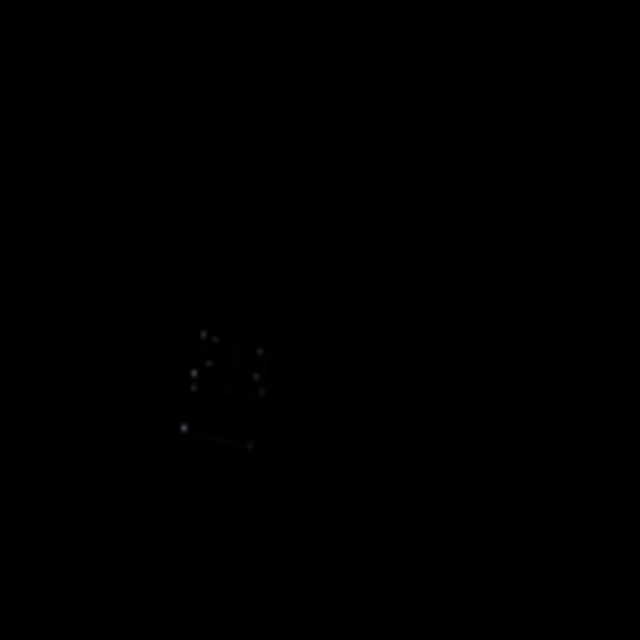medium_debris: (184, 327, 278, 452)
